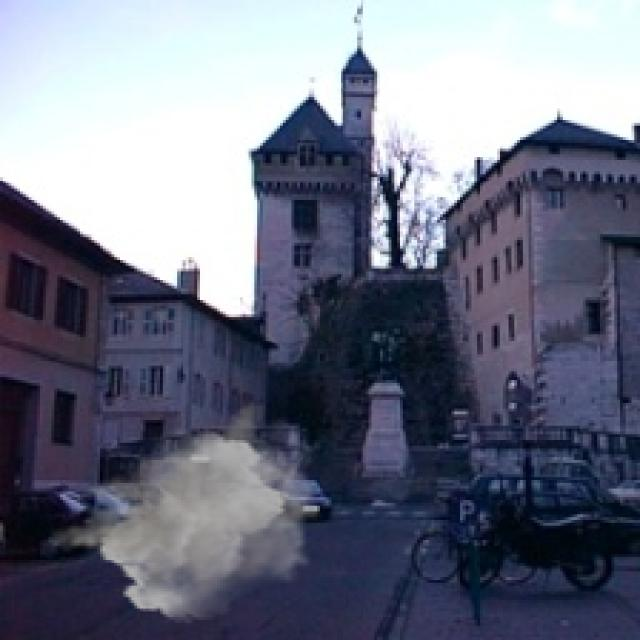smoke: (46, 400, 323, 623)
